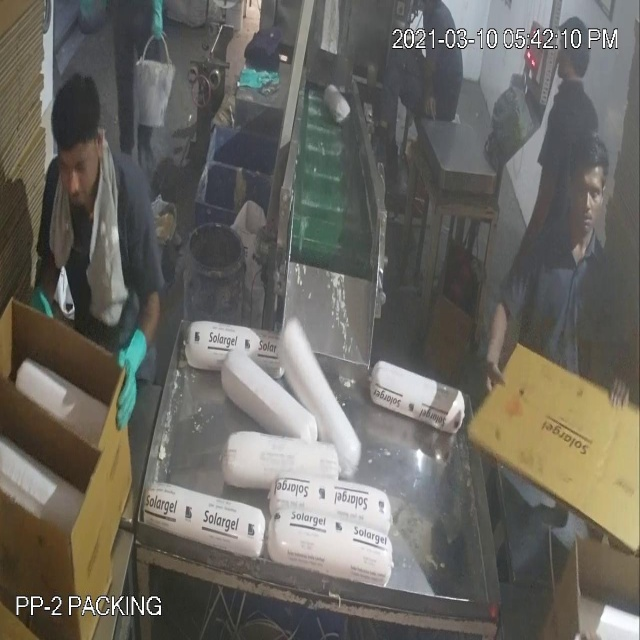Guantes: (105, 324, 166, 435)
Sin_guantes: (473, 268, 518, 421), (512, 152, 563, 279)
